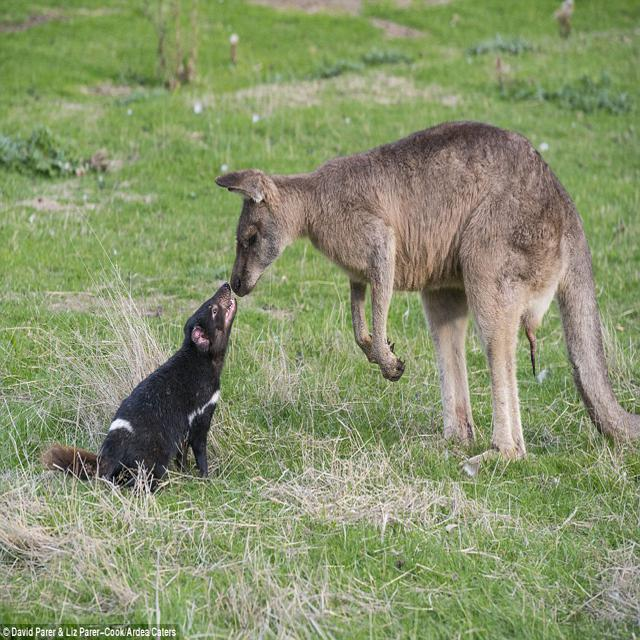kangaroo: (224, 112, 598, 329)
